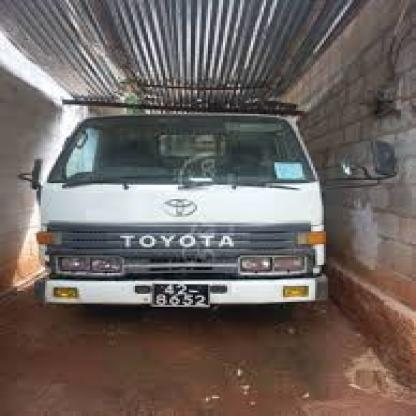Lorry back: (31, 108, 336, 308)
number plate: (154, 280, 206, 308)
